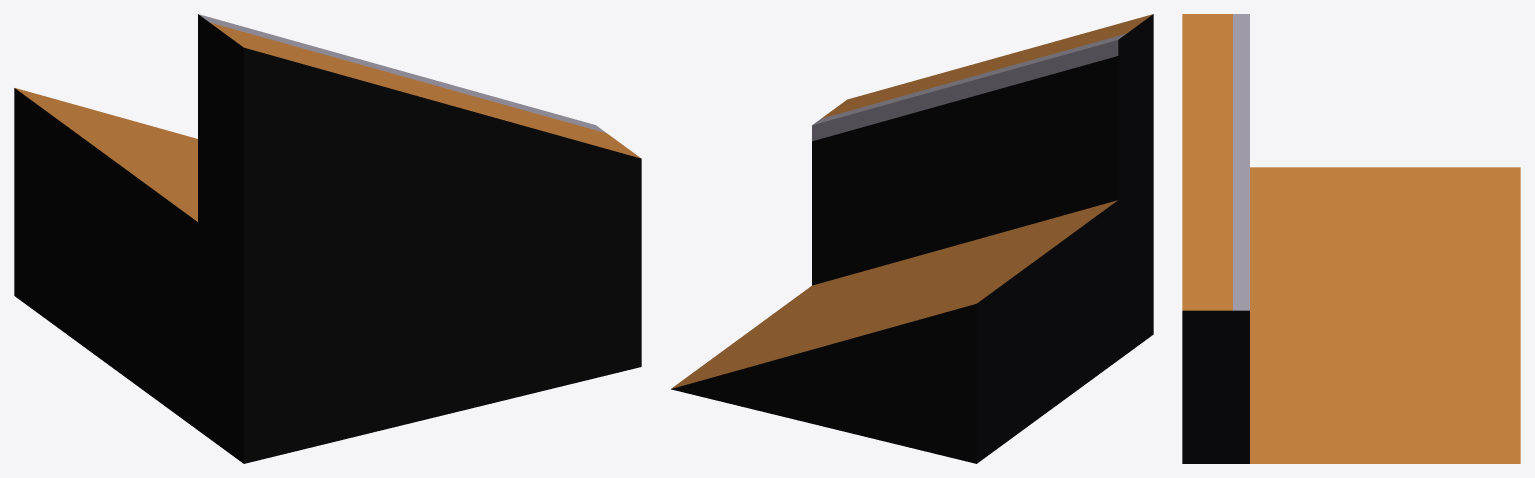
The model's file is Ledge_Ramp_LRG_L.obj.
The picture shows the model from 3 angles, left to right: view 1: azimuth 30°, elevation 25°; view 2: azimuth 150°, elevation 25°; view 3: azimuth 270°, elevation 25°; orthographic projection. The views are drawn at different scales.
Parts seen in each view (by area): view 1: Ledge_Ramp_LRG_L; view 2: Ledge_Ramp_LRG_L; view 3: Ledge_Ramp_LRG_L.
Part boxes in pixels (x1,y1,x2,y2): Ledge_Ramp_LRG_L: [14, 14, 641, 463]; Ledge_Ramp_LRG_L: [671, 14, 1153, 463]; Ledge_Ramp_LRG_L: [1182, 14, 1520, 463].
Bounding box in the file's own units: 10 × 10 × 10.
